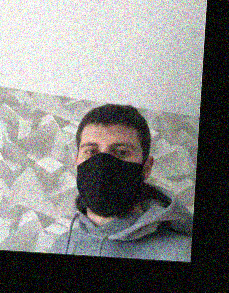with_mask: (76, 133, 144, 219)
